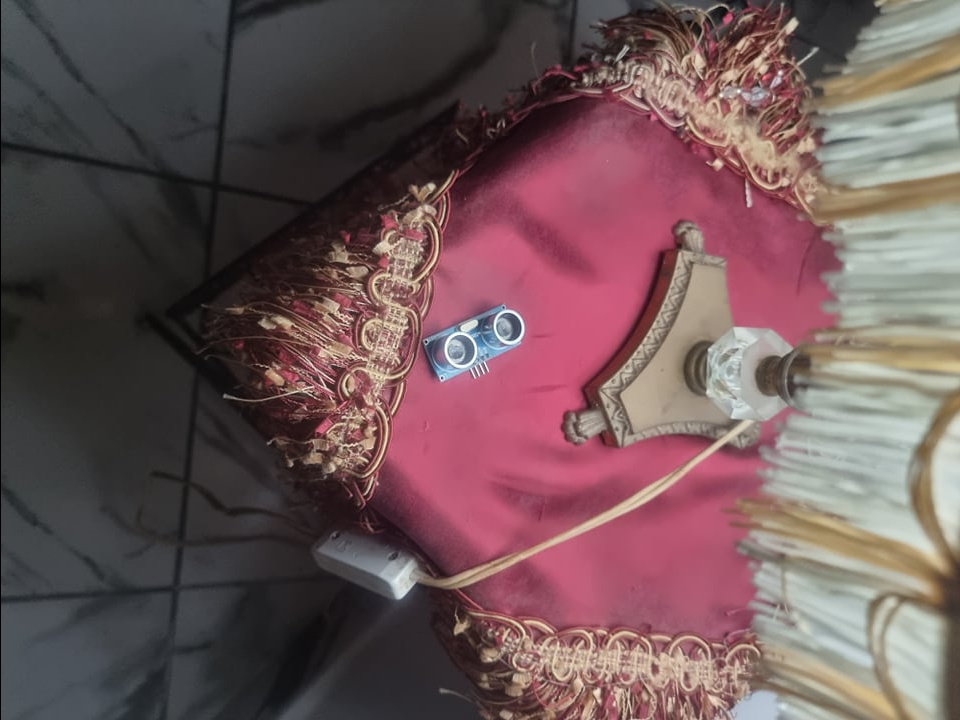SENSOR: (421, 305, 525, 382)
